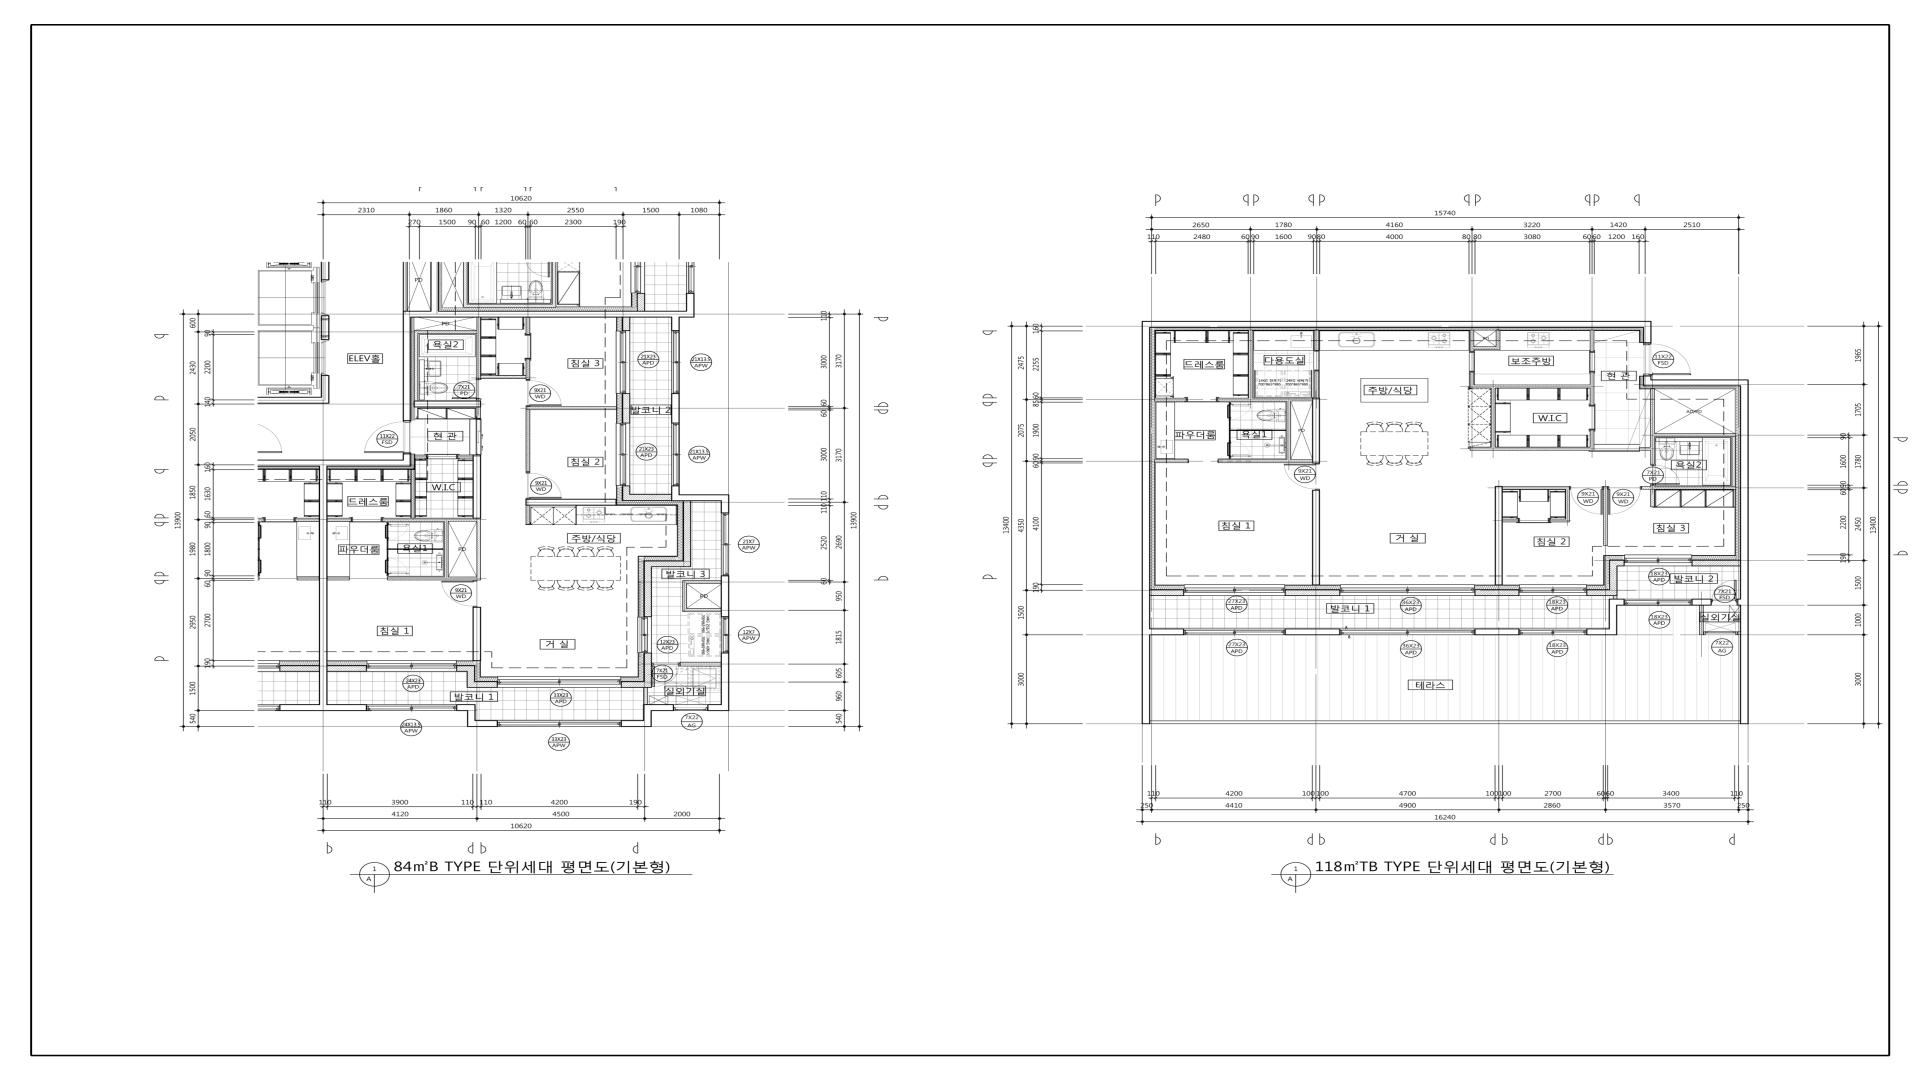door: (364, 421, 411, 454), (1650, 344, 1692, 375), (442, 580, 477, 607), (526, 380, 562, 406), (526, 472, 562, 498), (1609, 488, 1640, 514), (1571, 488, 1602, 514), (1283, 464, 1316, 489), (651, 663, 680, 687), (452, 378, 481, 401), (1652, 465, 1680, 484), (1712, 580, 1737, 600), (385, 558, 409, 576), (385, 522, 409, 541), (1228, 405, 1251, 421), (1226, 442, 1251, 456), (476, 418, 481, 455), (525, 332, 531, 360), (351, 517, 382, 522), (1519, 518, 1549, 524), (1187, 397, 1217, 402), (427, 454, 458, 459), (1589, 406, 1596, 430), (1313, 351, 1320, 371), (1589, 352, 1594, 372), (1469, 352, 1474, 372)
wall: (1142, 320, 1651, 636), (1643, 376, 1749, 634), (402, 311, 695, 318), (319, 467, 327, 704), (1586, 559, 1625, 596), (1586, 599, 1625, 636), (257, 460, 411, 467), (402, 318, 411, 421), (1494, 487, 1503, 585), (1312, 489, 1320, 584), (525, 498, 617, 506), (472, 455, 481, 518), (280, 704, 367, 711), (1312, 398, 1320, 464), (472, 607, 481, 661), (1469, 385, 1590, 389), (257, 397, 330, 404), (1470, 447, 1590, 451), (683, 501, 691, 560), (430, 262, 439, 311), (644, 560, 651, 617), (414, 401, 481, 407), (1650, 388, 1655, 465), (721, 653, 729, 704), (1602, 487, 1609, 546), (1692, 559, 1741, 567), (1217, 398, 1312, 402), (1218, 459, 1312, 463), (1284, 589, 1340, 596), (1247, 330, 1253, 398), (526, 406, 616, 410), (388, 576, 476, 580), (671, 495, 721, 501), (721, 576, 729, 617), (622, 495, 671, 501), (476, 318, 481, 378), (1490, 388, 1495, 447), (476, 521, 481, 580), (1474, 589, 1519, 596), (1284, 629, 1340, 634), (414, 334, 418, 401), (1731, 436, 1737, 487), (651, 560, 691, 567), (382, 518, 481, 521), (327, 665, 367, 671), (402, 262, 407, 311), (410, 469, 415, 518), (1642, 487, 1737, 489), (526, 410, 530, 472), (414, 330, 476, 334), (622, 393, 630, 423), (671, 393, 679, 423), (621, 680, 651, 688), (1474, 629, 1519, 634), (320, 315, 330, 340), (1287, 401, 1291, 459), (1150, 589, 1184, 596), (644, 653, 651, 680), (444, 521, 448, 576), (1655, 434, 1737, 436), (621, 720, 651, 727), (320, 376, 330, 397), (1502, 487, 1569, 489), (481, 375, 526, 378), (475, 680, 497, 688), (680, 662, 721, 666), (1698, 605, 1704, 636), (320, 262, 330, 280), (1565, 489, 1571, 518), (683, 580, 721, 584), (476, 720, 498, 727), (651, 704, 674, 711), (1315, 371, 1320, 398), (682, 584, 687, 612), (467, 711, 476, 727), (721, 495, 729, 513), (1154, 459, 1189, 463), (708, 704, 729, 711), (1590, 372, 1594, 406), (687, 608, 721, 612), (467, 671, 475, 688), (1692, 599, 1712, 605), (1154, 398, 1187, 402), (456, 704, 476, 711), (644, 704, 651, 720), (456, 665, 475, 671), (1474, 345, 1501, 349), (622, 318, 630, 331), (671, 318, 679, 331), (1650, 489, 1655, 508), (327, 518, 351, 522), (1590, 330, 1594, 352), (1470, 330, 1474, 352), (327, 576, 349, 580), (1549, 518, 1571, 522), (1590, 430, 1594, 451), (1495, 330, 1501, 345), (1315, 330, 1319, 351), (526, 505, 530, 525), (526, 360, 530, 380), (622, 485, 630, 495), (671, 485, 679, 495), (389, 549, 443, 550), (1502, 518, 1519, 522), (644, 688, 647, 704), (402, 454, 411, 460), (458, 455, 472, 459), (526, 318, 530, 332), (476, 407, 481, 418), (1470, 372, 1474, 385), (414, 455, 427, 459), (386, 541, 389, 558), (1639, 447, 1650, 451), (1737, 632, 1741, 636), (1613, 596, 1618, 599)
window: (1340, 584, 1474, 596), (497, 676, 621, 687), (1184, 584, 1284, 596), (367, 661, 456, 671), (616, 423, 630, 485), (616, 331, 630, 393), (497, 720, 621, 727), (1519, 584, 1586, 596), (1340, 629, 1474, 634), (1625, 555, 1692, 566), (1183, 629, 1284, 636), (367, 704, 456, 711), (637, 617, 651, 653), (721, 513, 729, 576), (671, 423, 679, 485), (671, 331, 679, 393), (1625, 599, 1692, 605), (1519, 629, 1586, 634), (721, 617, 729, 653), (674, 704, 708, 711), (1704, 632, 1737, 634)
